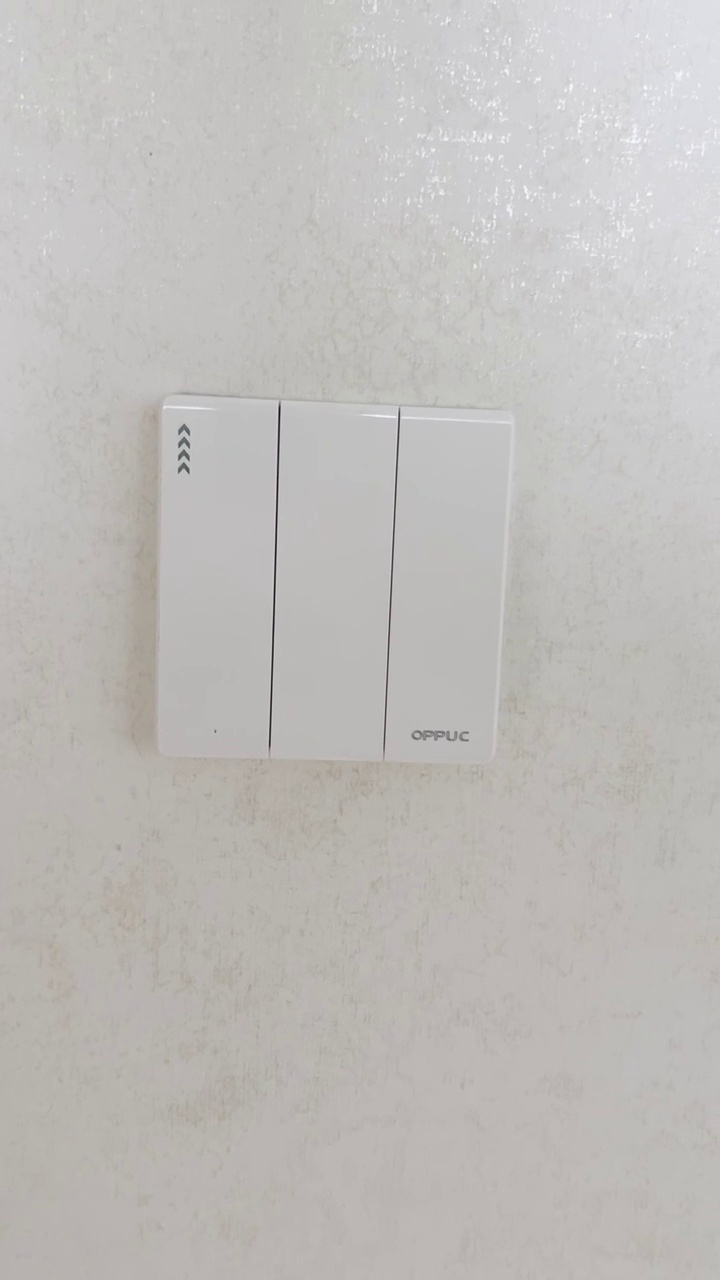button1: (390, 415, 506, 761), (159, 402, 274, 749), (276, 409, 388, 760)
